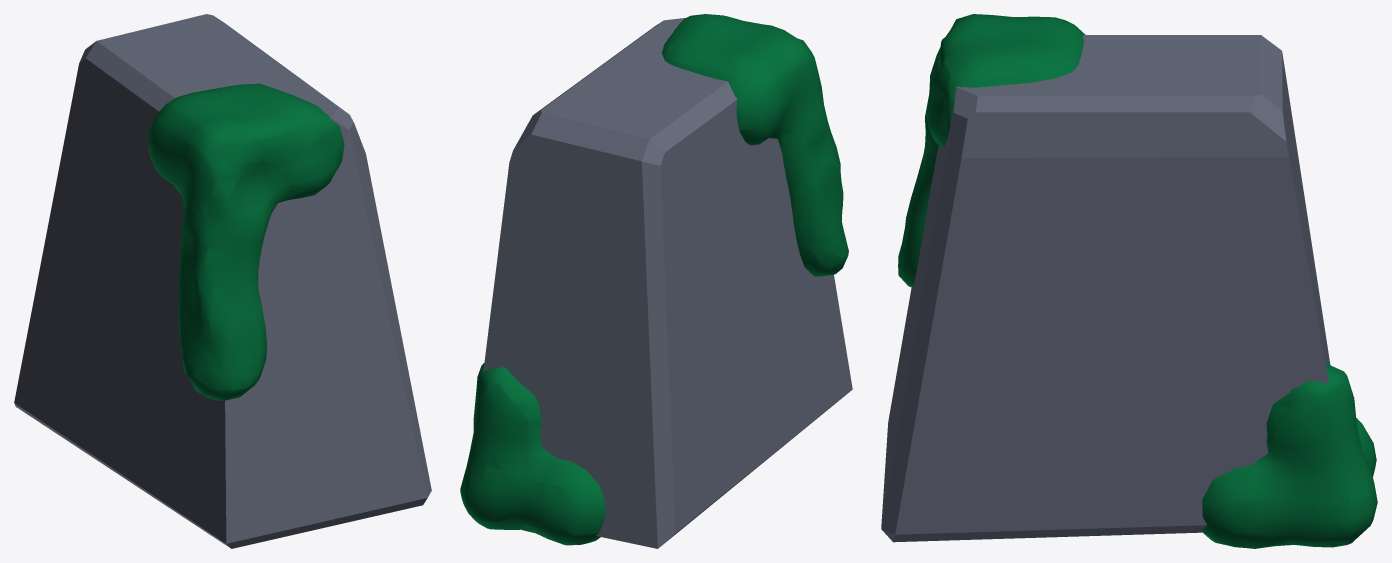
Rendered from stoneWithMoh.fbx.
The picture shows the model from 3 angles, left to right: view 1: azimuth 30°, elevation 25°; view 2: azimuth 150°, elevation 25°; view 3: azimuth 270°, elevation 25°; orthographic projection. The views are drawn at different scales.
Parts seen in each view (by area): view 1: Cube.010, Mball.001; view 2: Cube.010, Mball.001; view 3: Cube.010, Mball.001.
Boxes of the visible parts, x1,y1,x2,y2 form: Cube.010: (14, 14, 431, 548); Mball.001: (148, 83, 344, 400); Cube.010: (483, 18, 852, 548); Mball.001: (460, 14, 848, 545); Cube.010: (881, 35, 1330, 542); Mball.001: (898, 14, 1377, 548).
Bounding box in the file's own units: 177 × 314 × 308.
